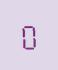zero: (19, 20, 37, 49)
